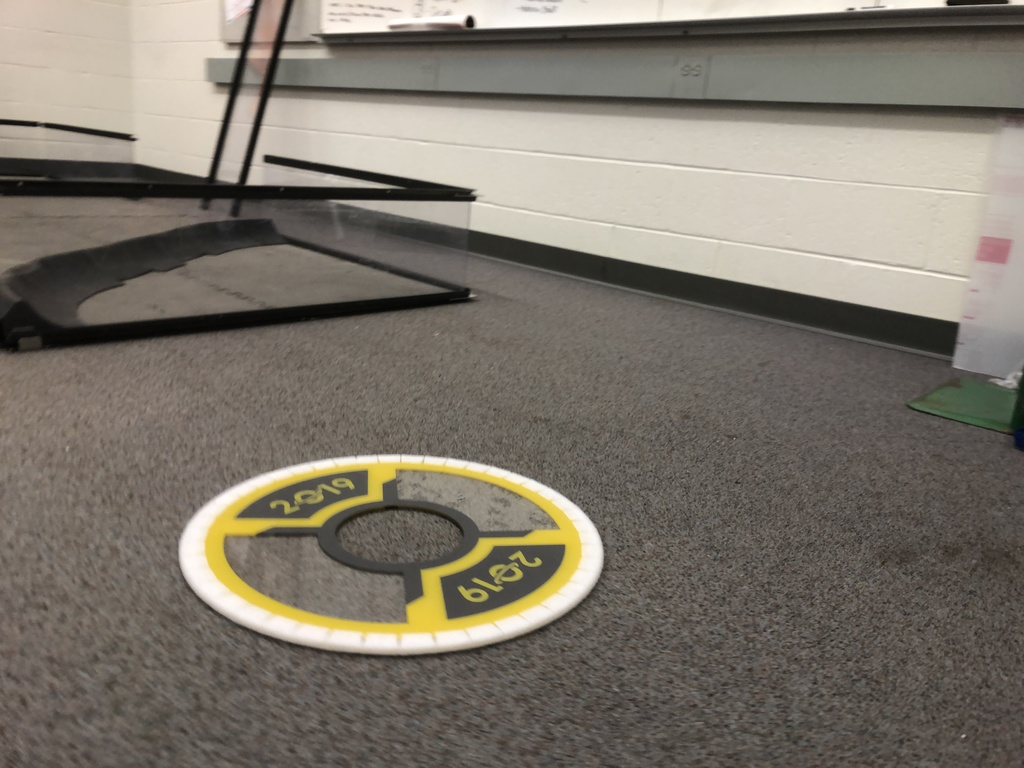hatch_panel: (175, 432, 615, 662)
